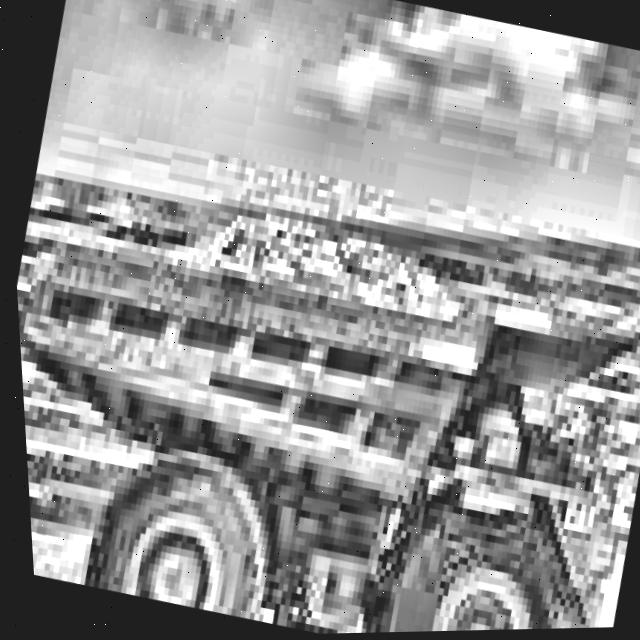dump_truck: (7, 141, 640, 640)
